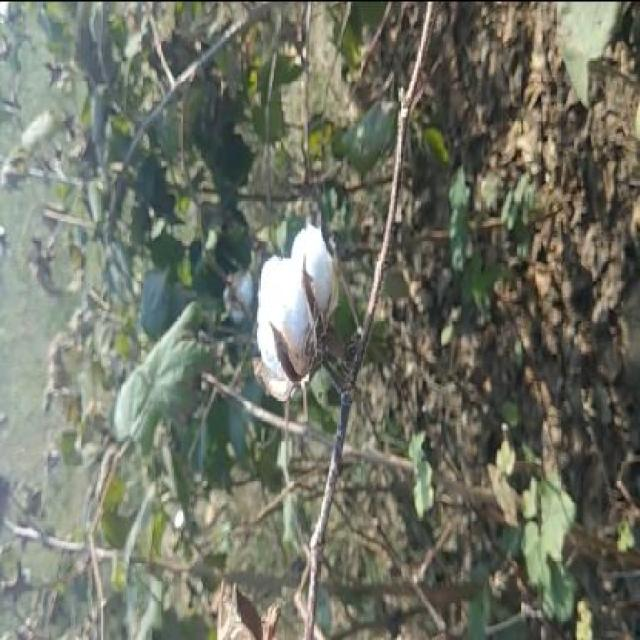cotton_ready: (259, 226, 367, 417)
